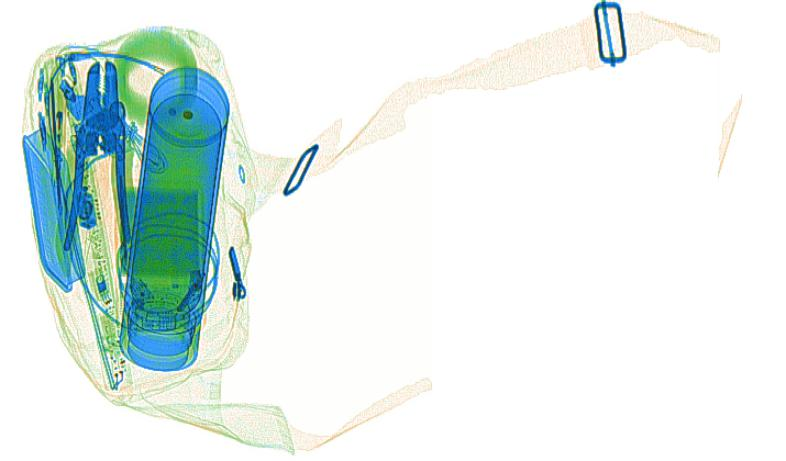lighter: (44, 59, 67, 168)
